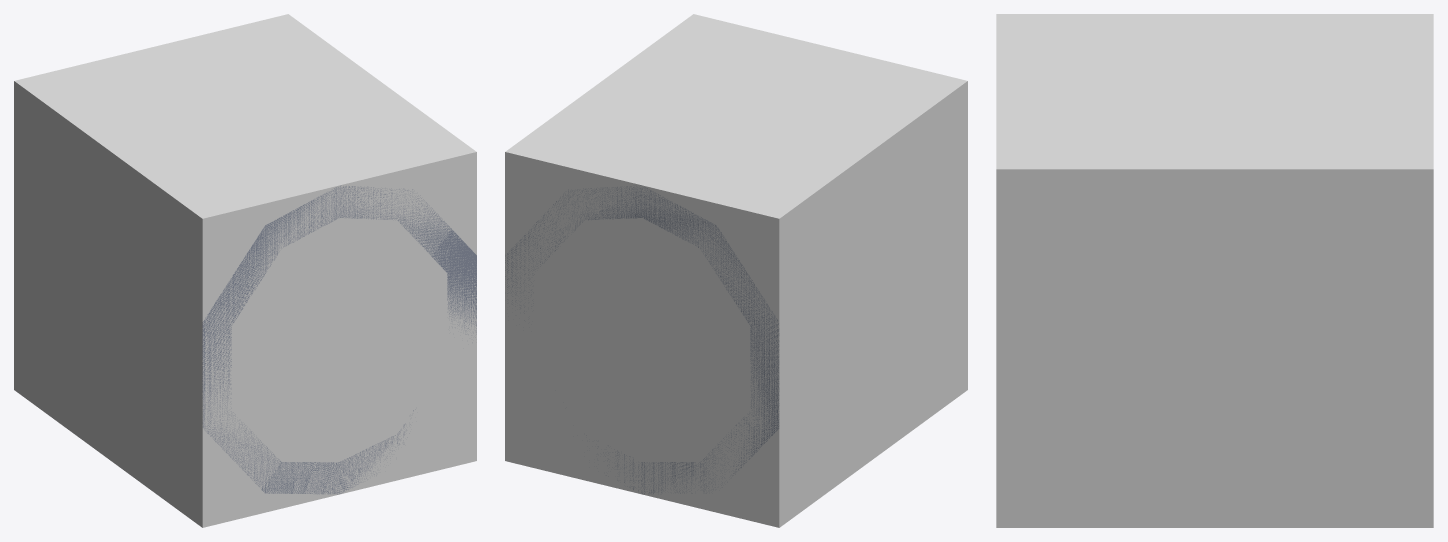
File: Cassette.001.fbx
3 renders of one model, left to right at view 1: azimuth 30°, elevation 25°; view 2: azimuth 150°, elevation 25°; view 3: azimuth 270°, elevation 25°, orthographic. The views are drawn at different scales.
Parts seen in each view (by area): view 1: Cassette.001_COL0, Cassette.001_LOD0; view 2: Cassette.001_COL0, Cassette.001_LOD0; view 3: Cassette.001_COL0.
Boxes of the visible parts, left/top/right/bottom form: Cassette.001_COL0: left=14, top=14, right=476, bottom=527; Cassette.001_LOD0: left=202, top=185, right=476, bottom=494; Cassette.001_COL0: left=505, top=14, right=967, bottom=527; Cassette.001_LOD0: left=505, top=185, right=779, bottom=494; Cassette.001_COL0: left=996, top=14, right=1433, bottom=527.
Size of what is drawn, in the model's own units: 0.0262 by 0.0282 by 0.0312.
